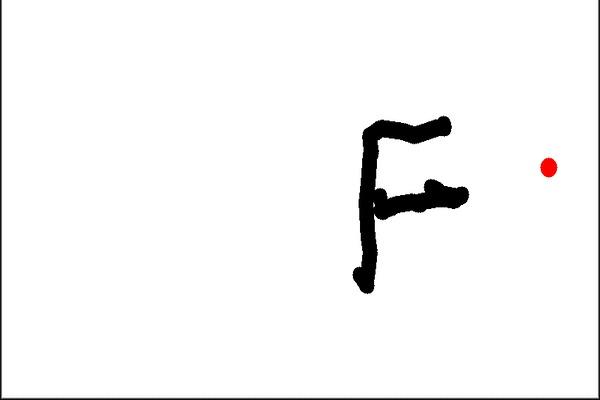F: (345, 113, 471, 294)
